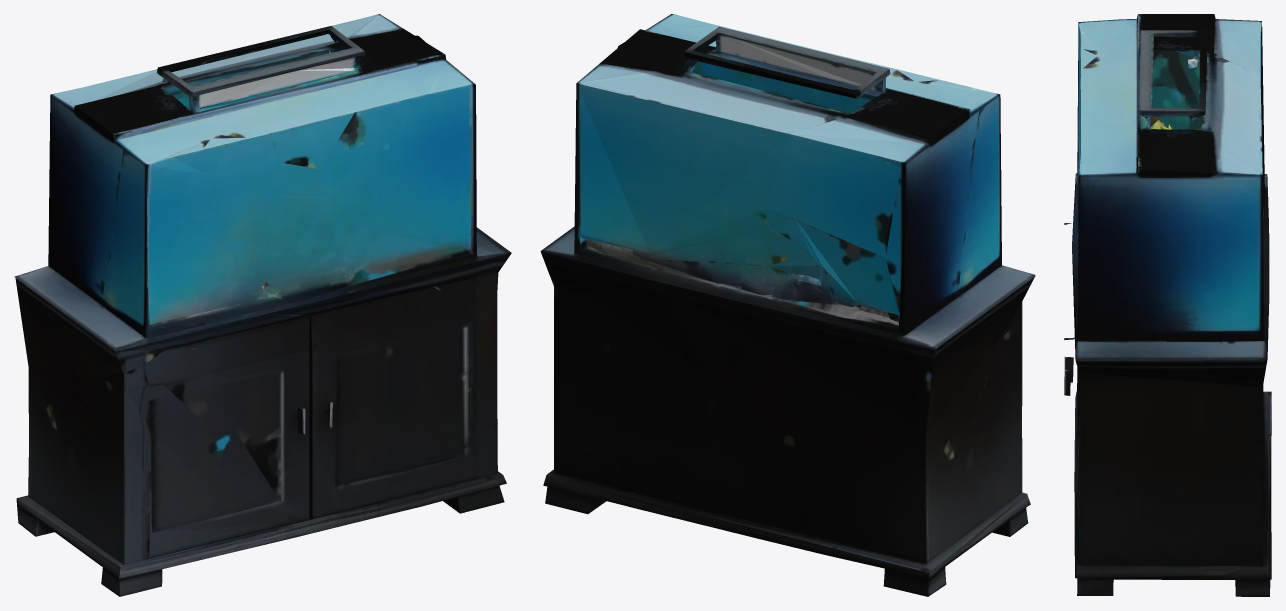
The model's file is aquarium.glb.
3 views of the same model, side by side, from view 1: azimuth 30°, elevation 25°; view 2: azimuth 150°, elevation 25°; view 3: azimuth 270°, elevation 25° (orthographic). The views are drawn at different scales.
Visible parts, largest first — view 1: world; view 2: world; view 3: world.
Boxes of the visible parts, <box> form: world: <box>14,14,511,596</box>; world: <box>540,14,1035,596</box>; world: <box>1064,14,1271,596</box>.
Bounding box in the file's own units: 0.9138 × 0.9977 × 0.43.
1 material, 1 textured.
